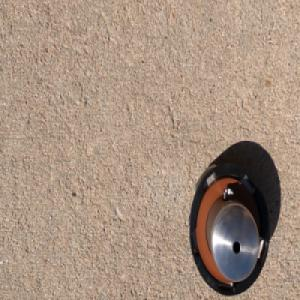FuelCap: (187, 157, 271, 298)
